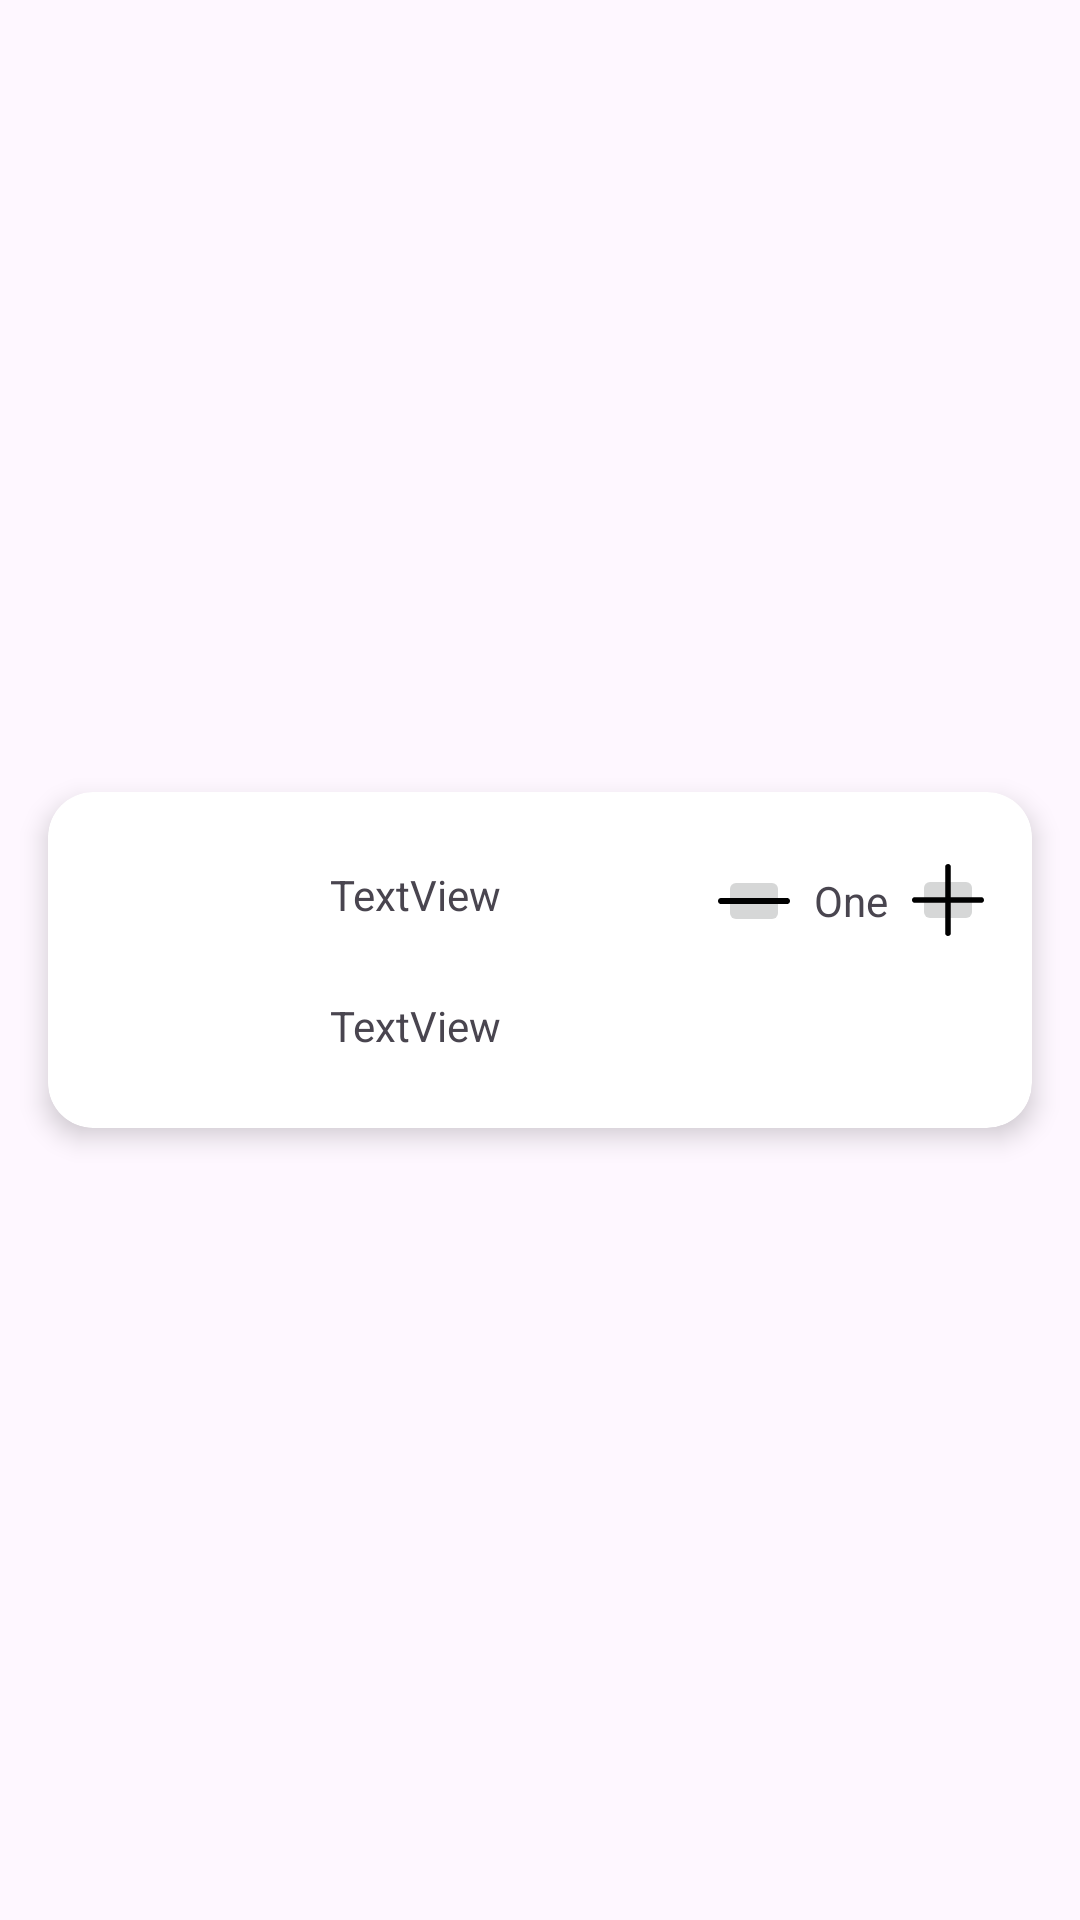

Named icons in this screenshot (1080px×1920px) and their bounding boxes, (x1, y1, x2, y2):
minus: (718, 883, 790, 919)
Plus: (912, 864, 984, 936)
